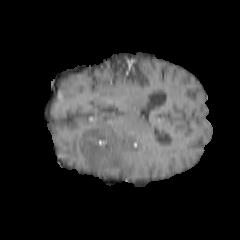glioma: (78, 127, 151, 170)
